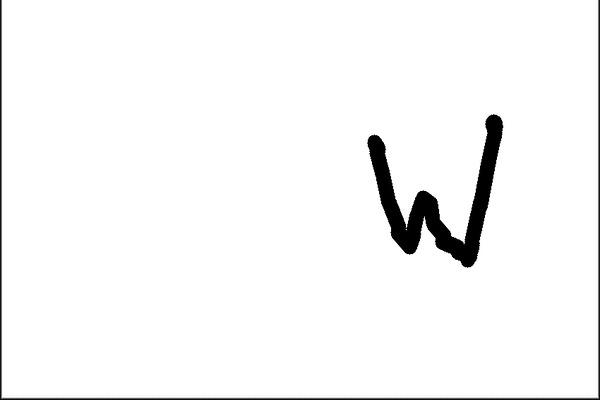w: (346, 98, 510, 288)
